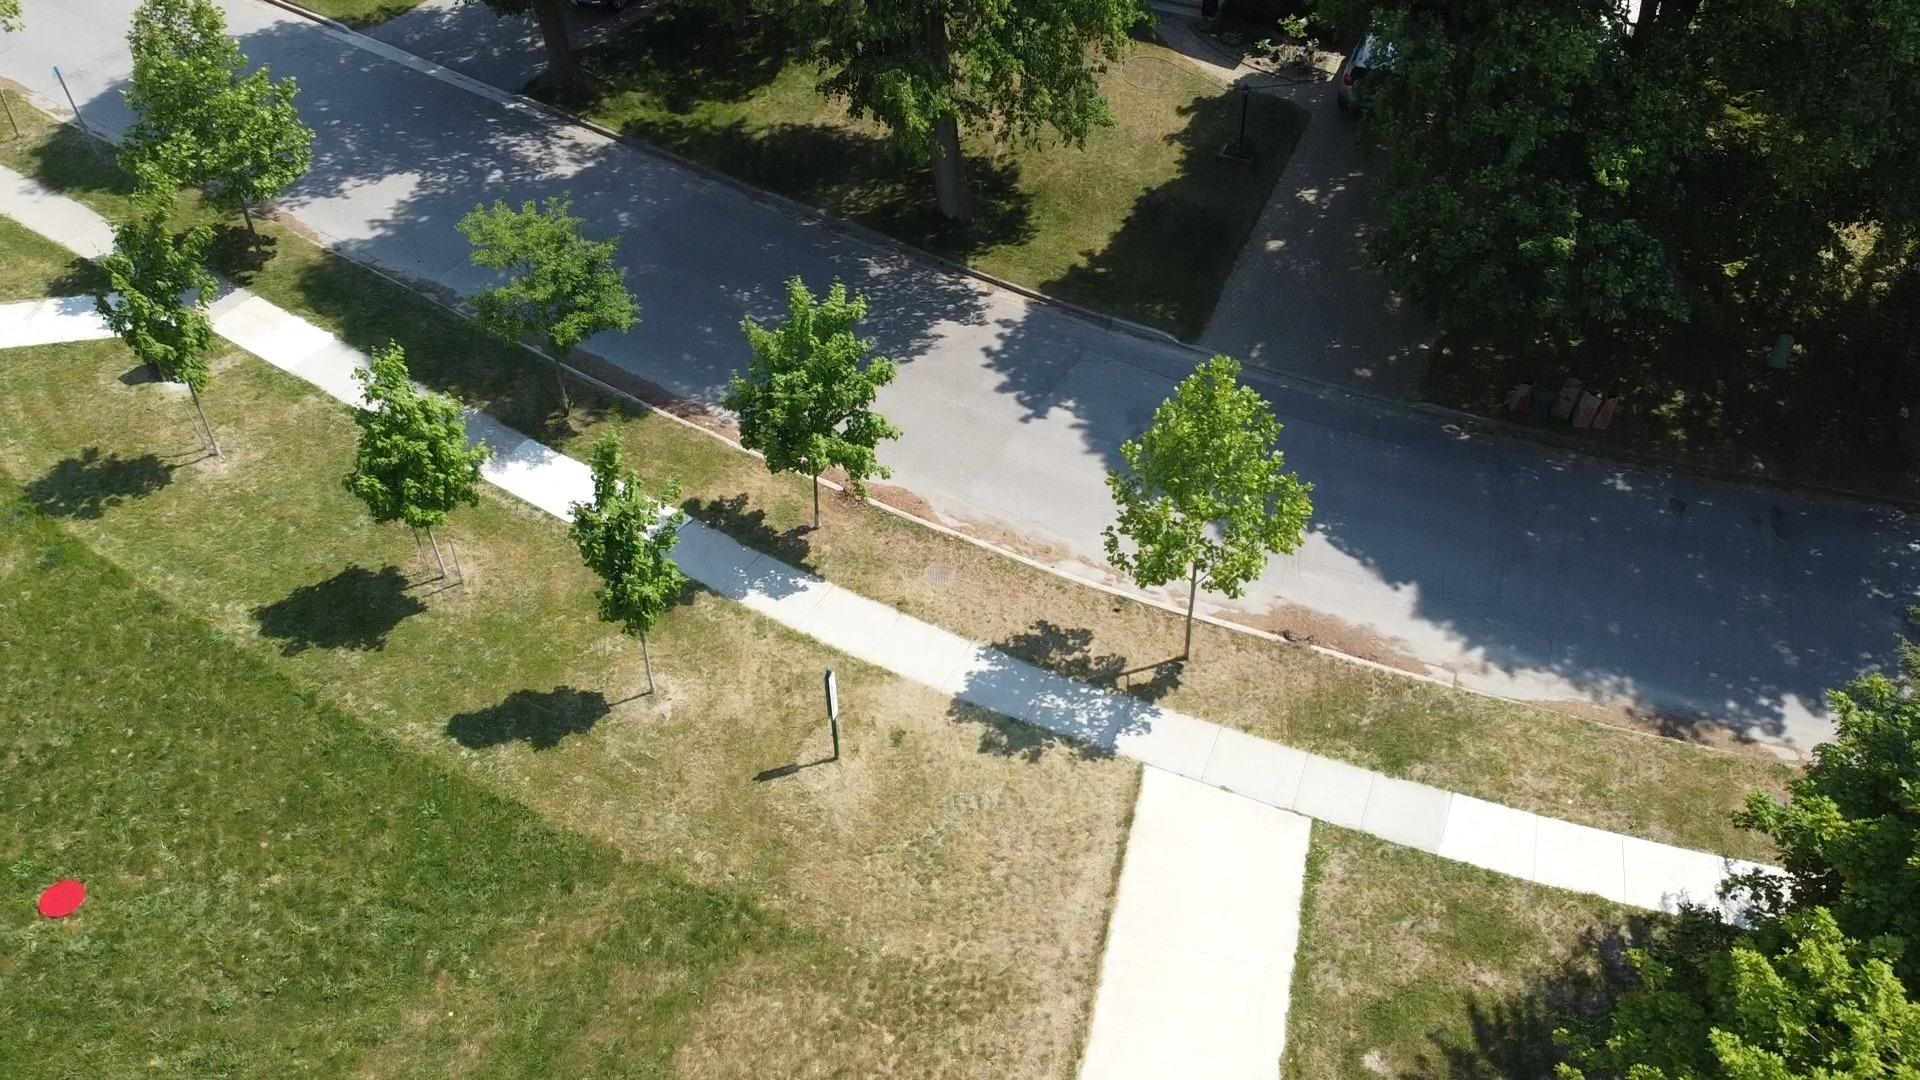Red: (38, 880, 86, 919)
